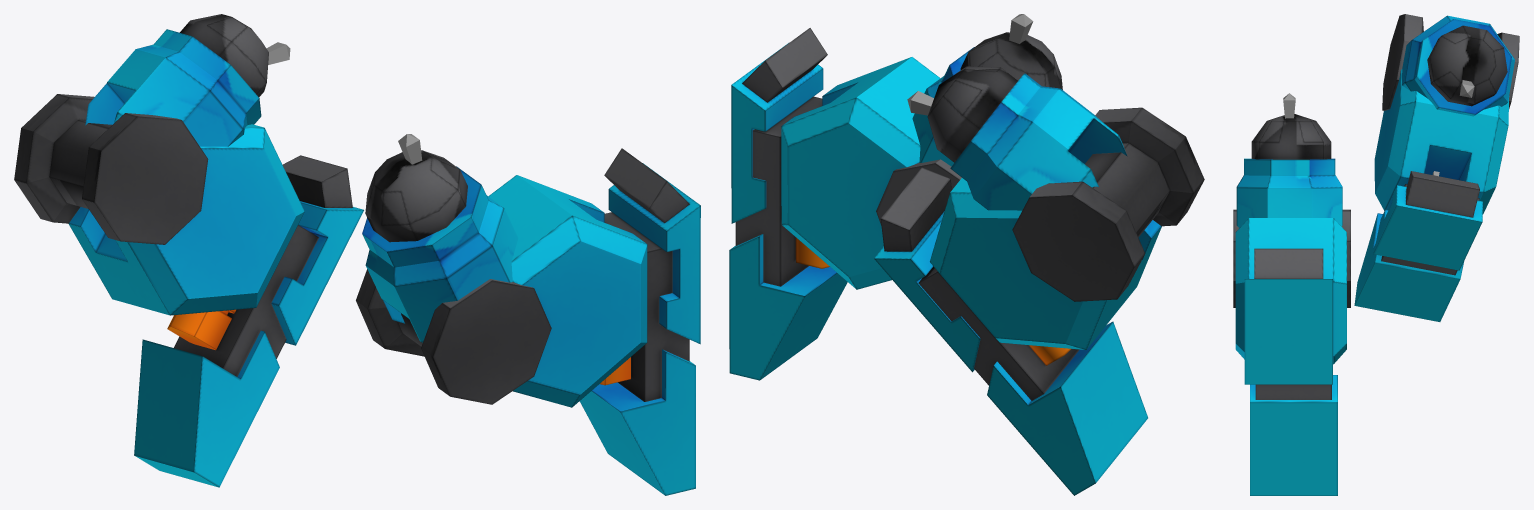
File: Bottom_Running30.obj
The picture shows the model from 3 angles, left to right: view 1: azimuth 30°, elevation 25°; view 2: azimuth 150°, elevation 25°; view 3: azimuth 270°, elevation 25°; orthographic projection. The views are drawn at different scales.
Parts seen in each view (by area): view 1: Object010, Object013, Object011, Object014, Object012, Object009; view 2: Object010, Object011, Object014, Object013, Object009, Object012, Bone023; view 3: Object014, Object011, Object010, Object012, Object009, Object013.
Part boxes in pixels (bbox=[...]): Object010: bbox=[14, 94, 304, 315]; Object013: bbox=[356, 175, 647, 407]; Object011: bbox=[134, 155, 363, 487]; Object014: bbox=[579, 148, 700, 495]; Object012: bbox=[362, 150, 518, 342]; Object009: bbox=[85, 14, 268, 146]; Object010: bbox=[930, 107, 1204, 349]; Object011: bbox=[874, 167, 1147, 495]; Object014: bbox=[729, 28, 847, 380]; Object013: bbox=[781, 57, 961, 289]; Object009: bbox=[927, 66, 1127, 210]; Object012: bbox=[912, 32, 1062, 166]; Bone023: bbox=[1009, 14, 1033, 43]; Object014: bbox=[1244, 248, 1337, 495]; Object011: bbox=[1354, 171, 1482, 321]; Object010: bbox=[1374, 14, 1519, 214]; Object012: bbox=[1236, 114, 1342, 227]; Object009: bbox=[1402, 15, 1514, 116]; Object013: bbox=[1233, 209, 1350, 364].
Size of the model in its own units: 146 by 120 by 91.85.
